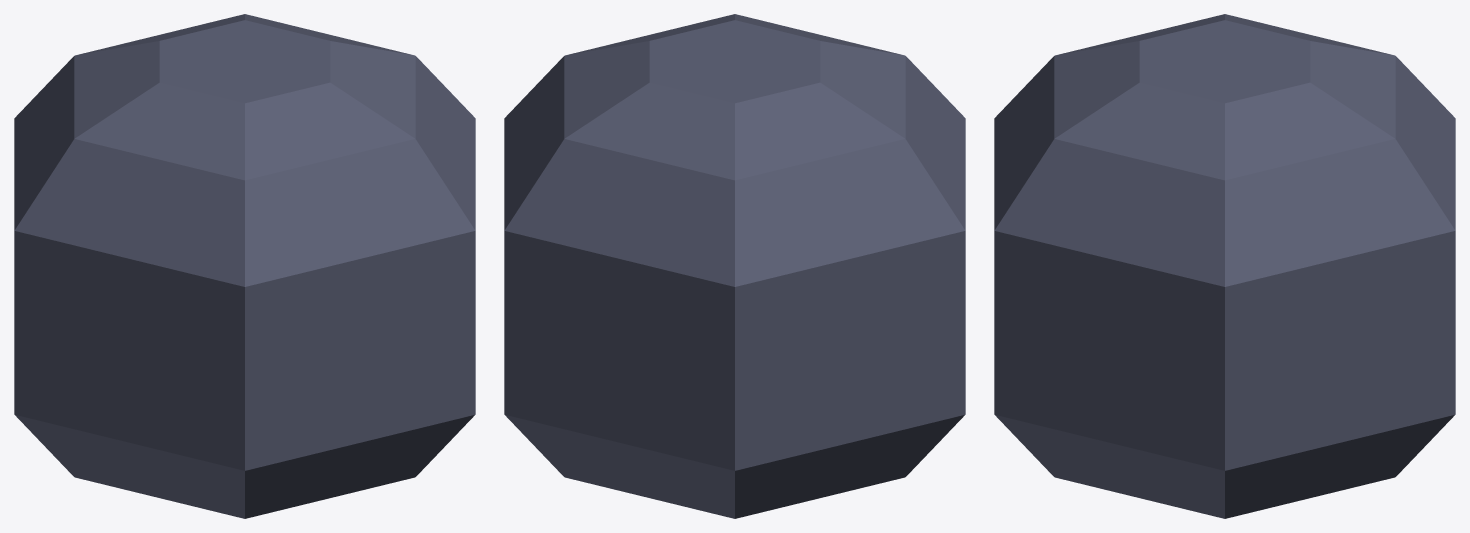
File: meteor.glb
The picture shows the model from 3 angles, left to right: view 1: azimuth 30°, elevation 25°; view 2: azimuth 150°, elevation 25°; view 3: azimuth 270°, elevation 25°; orthographic projection.
Visible parts, largest first — view 1: meteor; view 2: meteor; view 3: meteor.
Part boxes in pixels (x1,y1,x2,y2): meteor: (14,14,475,518); meteor: (504,14,965,518); meteor: (994,14,1455,518).
Bounding box in the file's own units: 0.866 × 0.735 × 0.75.
